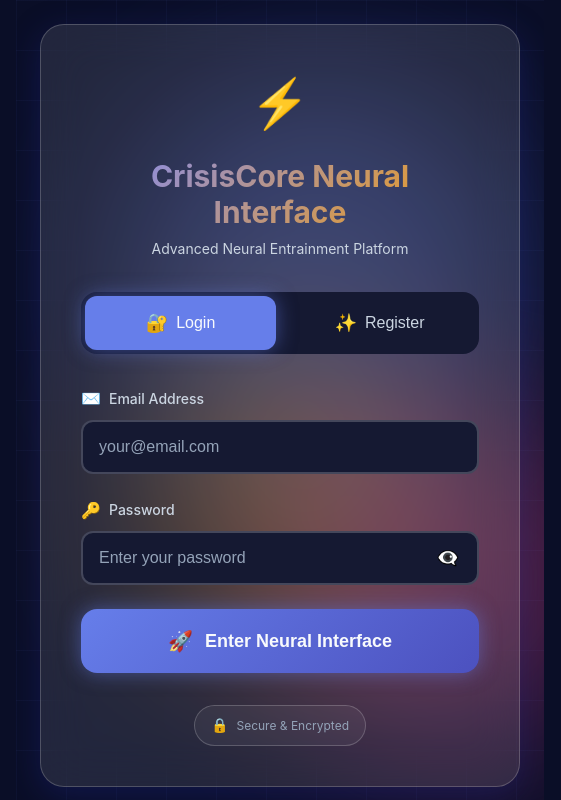
Test case: Auth Component › Registration Mode › should switch to registration mode
This screenshot has width=561, height=800.
Click the button "✨ Register": x=380, y=323 [284,296,475,350]
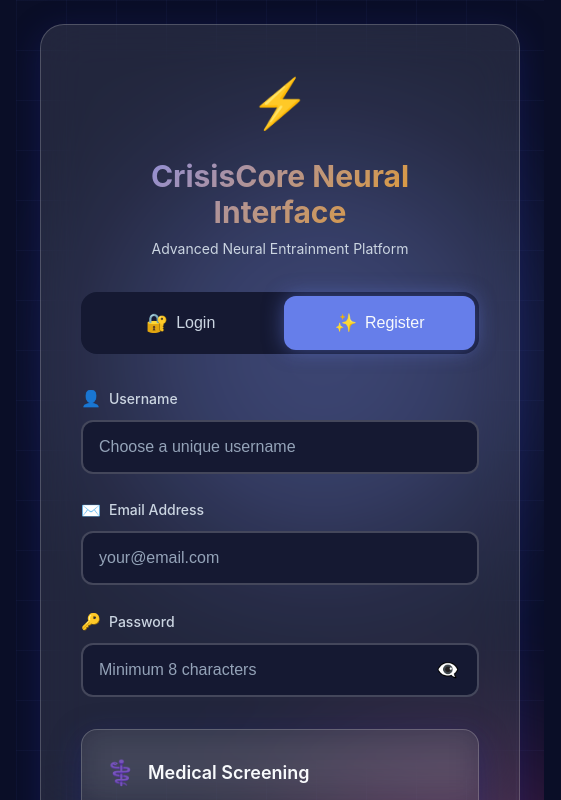
Result: the field with placeholder "Choose a unique username" is shown at [81,420,479,474]
